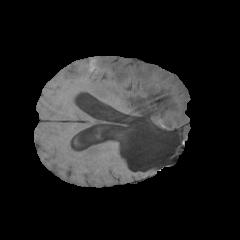glioma: (99, 61, 189, 171)
